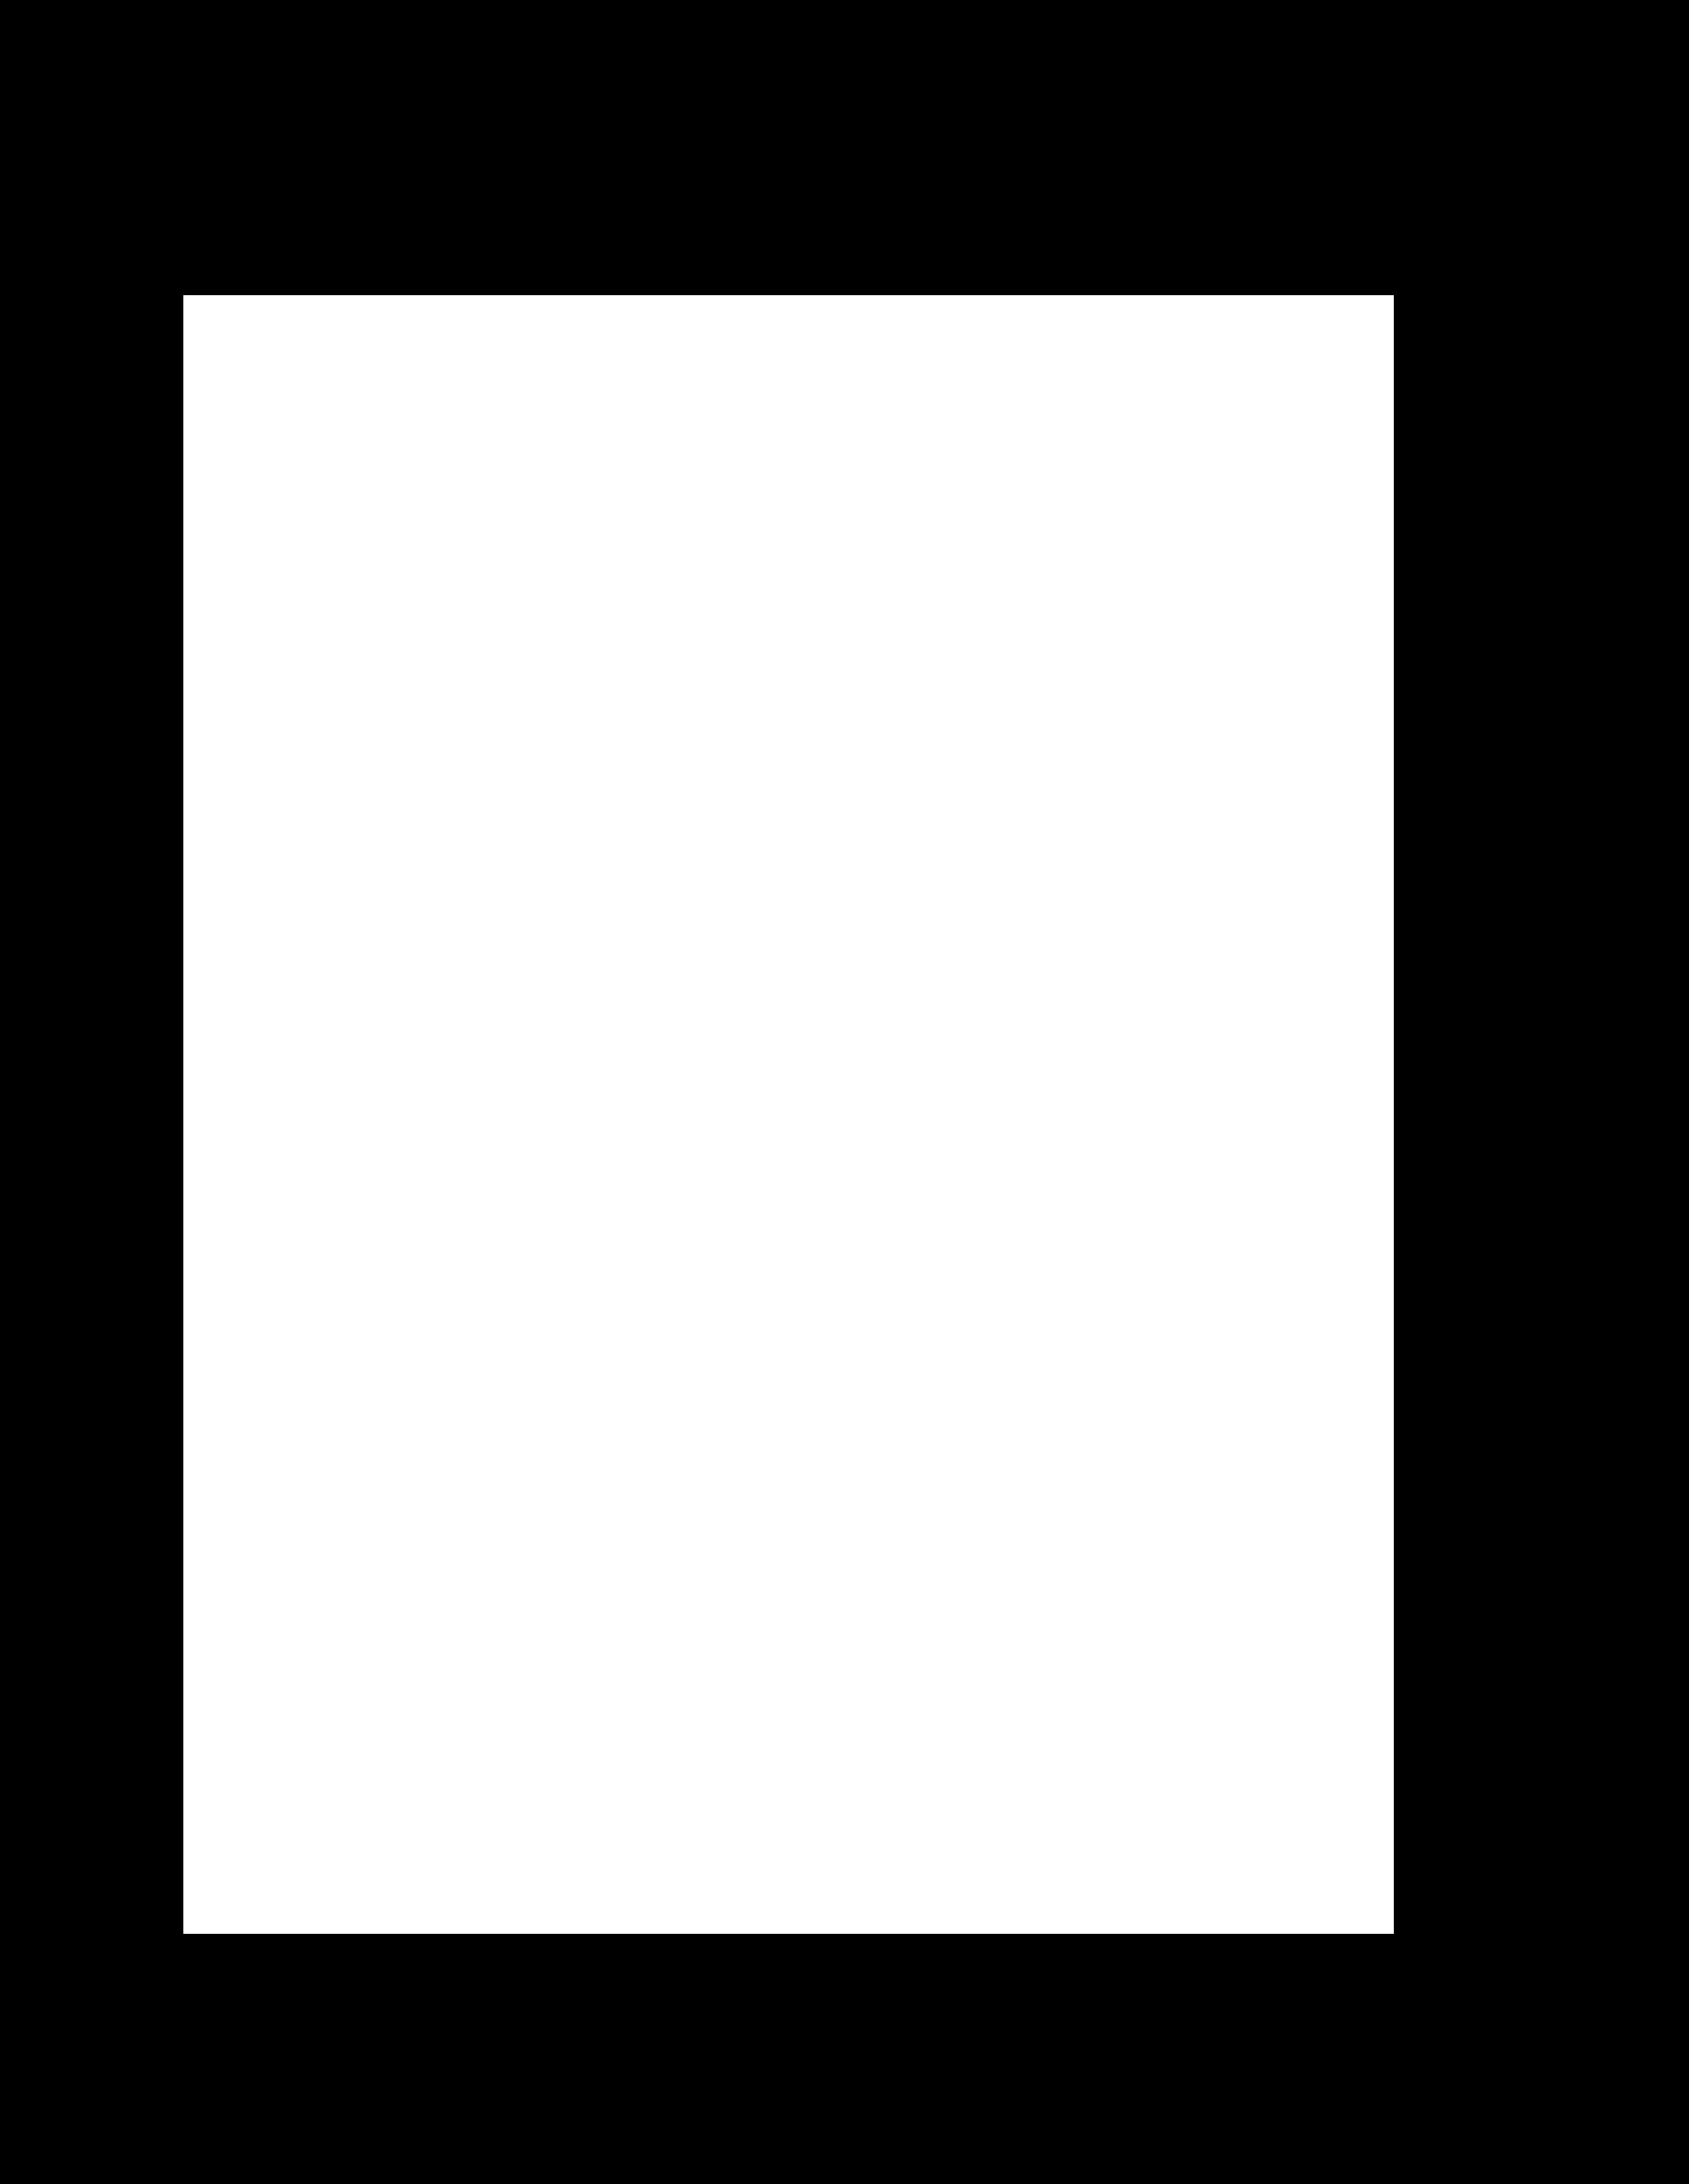table: (183, 296, 1393, 1934)
